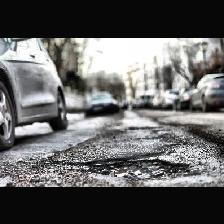pothole: (85, 150, 190, 180)
